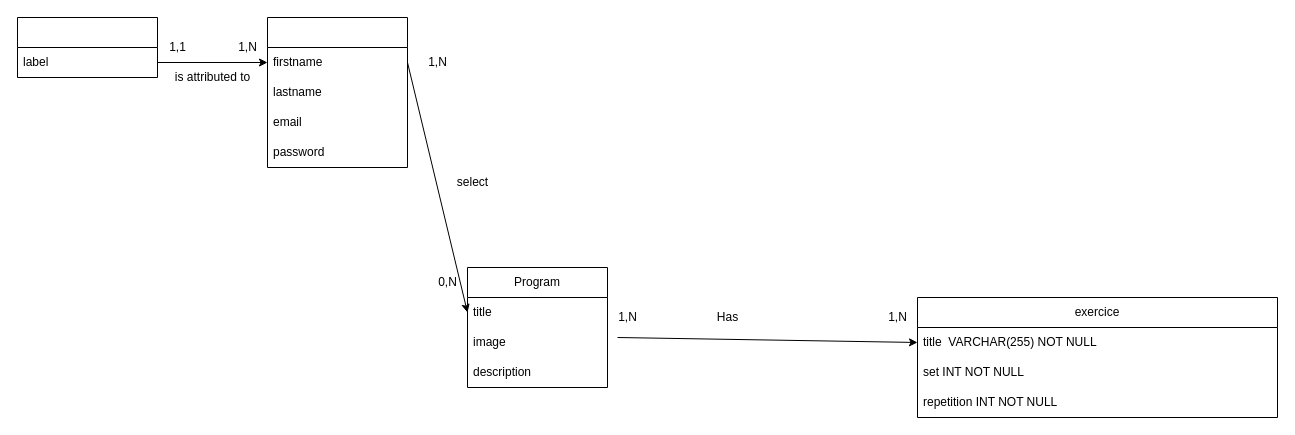
Some shapes in this 1295 by 435 pixel diagram are drawn without their labels. The shapes that lost their labels are listed below. From the top down, each one's box as (x1, y1, x2, y2) in pixels, then its label:
(16, 16, 158, 78): Role
(266, 16, 408, 168): User
